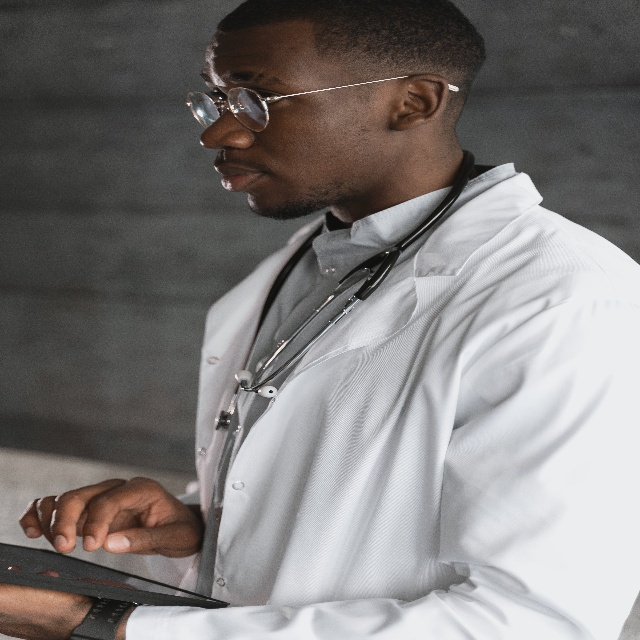Gafas: (182, 83, 270, 127)
Sin_guantes: (19, 469, 198, 563)
